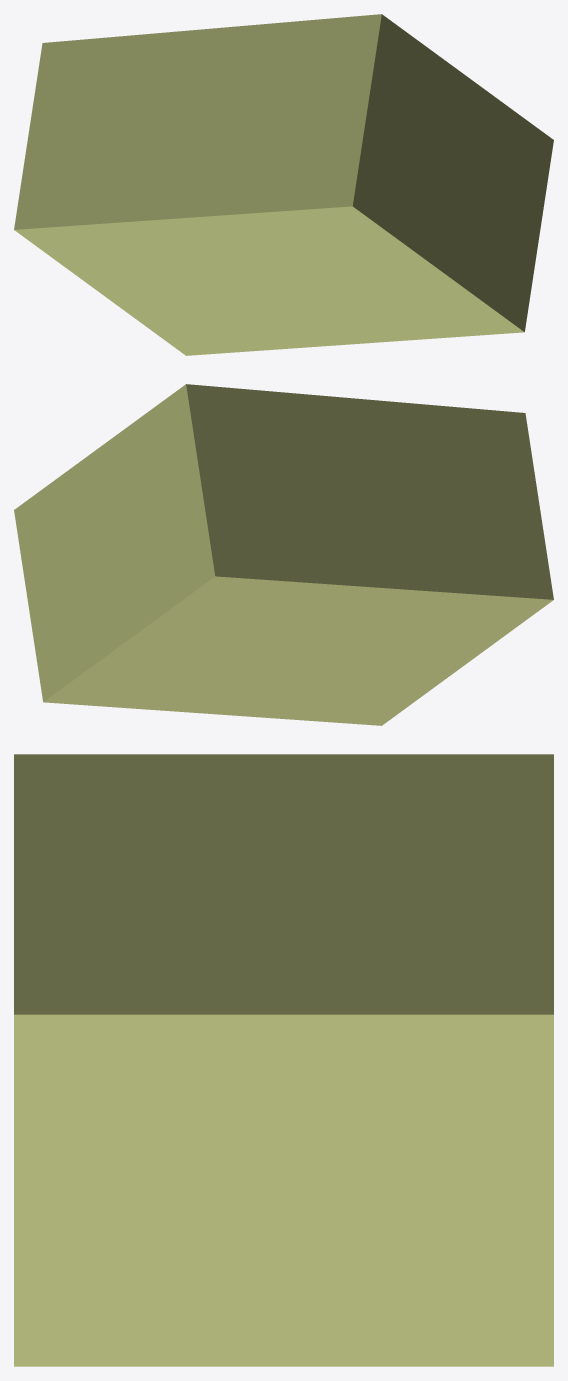
The picture shows the model from 3 angles, top to bottom: view 1: azimuth 30°, elevation 25°; view 2: azimuth 150°, elevation 25°; view 3: azimuth 270°, elevation 25°; orthographic projection. The views are drawn at different scales.
Parts seen in each view (by area): view 1: 0_1_2_0_3_3_2_0_2_1_1; view 2: 0_1_2_0_3_3_2_0_2_1_1; view 3: 0_1_2_0_3_3_2_0_2_1_1.
Boxes of the visible parts, x1,y1,x2,y2 form: 0_1_2_0_3_3_2_0_2_1_1: (14,14,553,355); 0_1_2_0_3_3_2_0_2_1_1: (14,384,553,725); 0_1_2_0_3_3_2_0_2_1_1: (14,754,553,1366).
Size of the model in its own units: 11.11 by 6.9 by 9.
